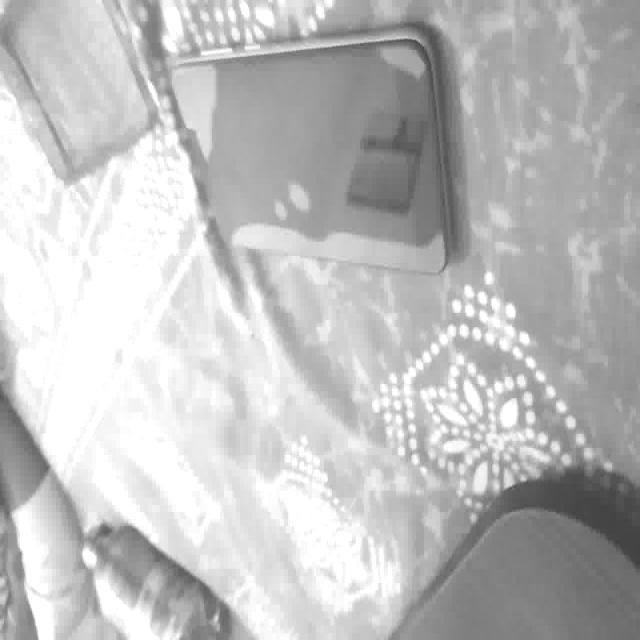fake: (169, 24, 451, 276)
